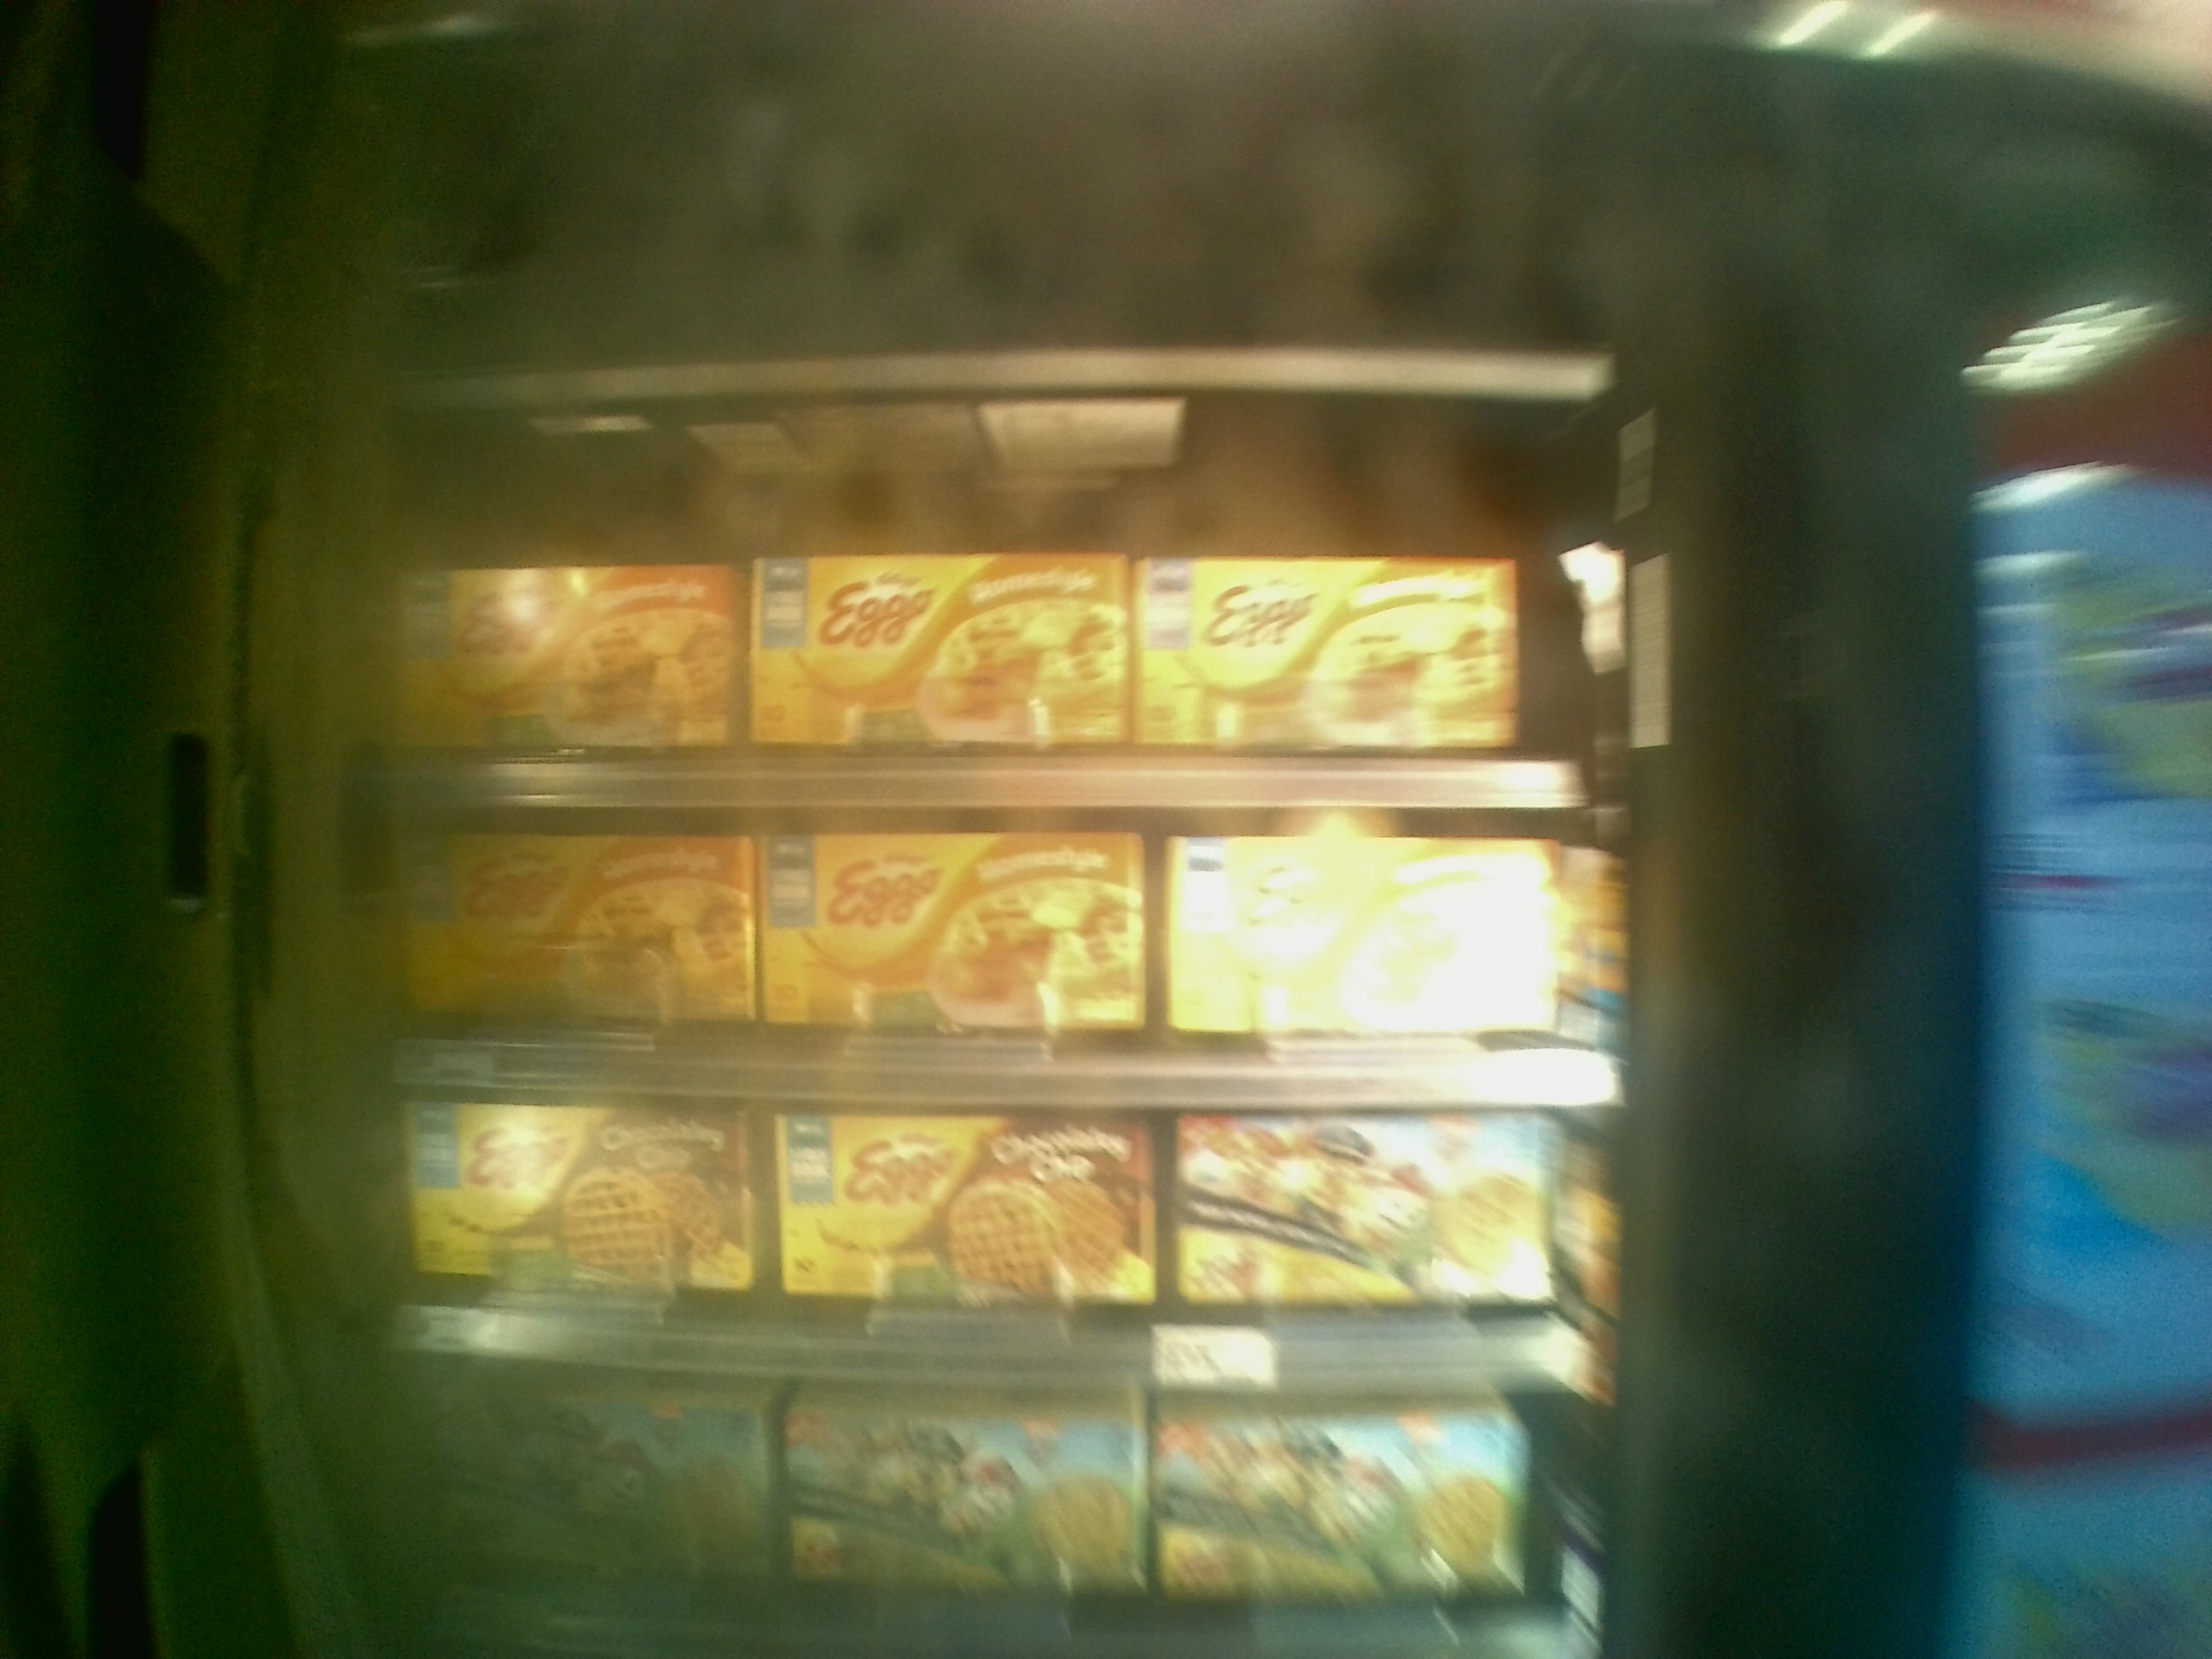shelf: (383, 441, 1611, 796), (381, 798, 1622, 1110), (376, 1094, 1644, 1385)
